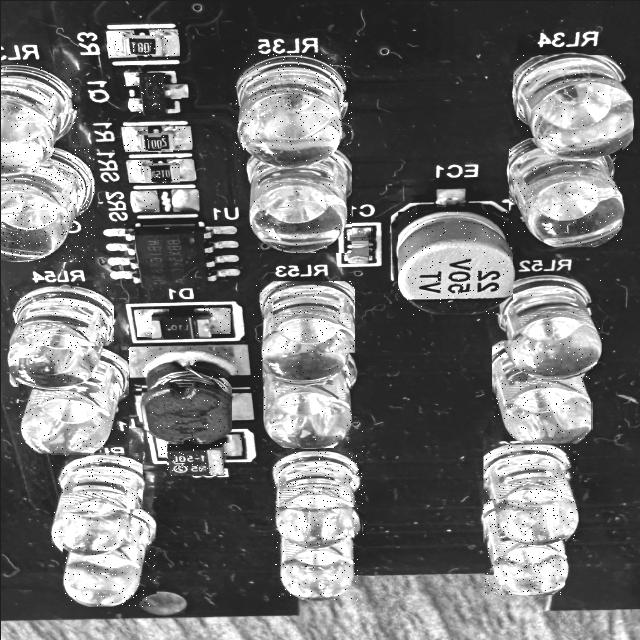Capacitor: (397, 210, 512, 314), (166, 436, 223, 474), (348, 234, 370, 262)
Diode: (151, 314, 211, 338)
IC: (134, 226, 204, 287)
Inductor: (141, 361, 231, 442)
Mosfet: (138, 72, 164, 114)
Register: (122, 34, 160, 54), (141, 162, 179, 182), (136, 130, 172, 150)
Soldering: (129, 343, 250, 377), (195, 307, 230, 333), (149, 28, 179, 58), (136, 308, 166, 336), (106, 29, 134, 58), (160, 126, 192, 150), (120, 125, 147, 151), (130, 190, 159, 212), (172, 188, 198, 211), (128, 159, 152, 182), (221, 434, 241, 455), (162, 83, 188, 99), (342, 227, 372, 239), (122, 72, 143, 88), (128, 97, 143, 111), (157, 439, 168, 456)
led: (231, 53, 351, 171), (513, 54, 632, 161), (508, 137, 622, 246), (18, 345, 128, 452), (243, 145, 351, 252), (252, 280, 354, 386), (0, 146, 94, 261), (9, 286, 113, 386), (492, 339, 592, 442), (505, 278, 602, 380), (262, 351, 364, 447), (482, 444, 578, 542), (270, 450, 364, 550), (62, 508, 156, 606), (50, 452, 142, 552), (0, 62, 79, 176), (274, 506, 361, 600), (484, 498, 564, 594)
